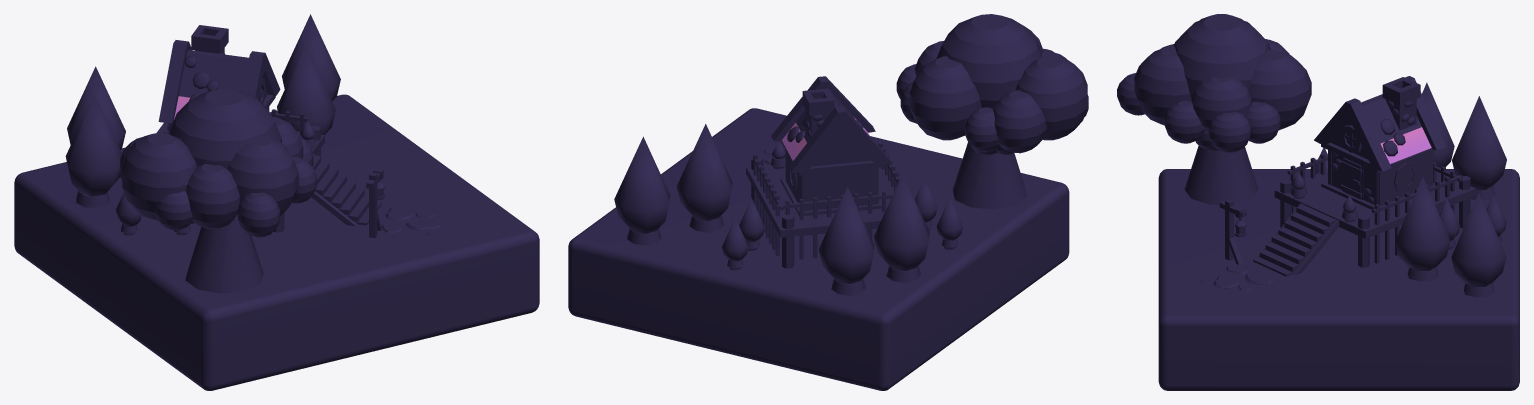
File: isla bosque 1.fbx
3 renders of one model, left to right at view 1: azimuth 30°, elevation 25°; view 2: azimuth 150°, elevation 25°; view 3: azimuth 270°, elevation 25°, orthographic. The views are drawn at different scales.
Visible parts, largest first — view 1: pDisc3; view 2: pDisc3; view 3: pDisc3, pDisc2.
Boxes of the visible parts, x1,y1,x2,y2 form: pDisc3: (14,14,539,390); pDisc3: (568,14,1088,390); pDisc3: (1117,14,1519,390); pDisc2: (1380,127,1431,163).
Bounding box in the file's own units: 15.94 × 10.45 × 15.76.
